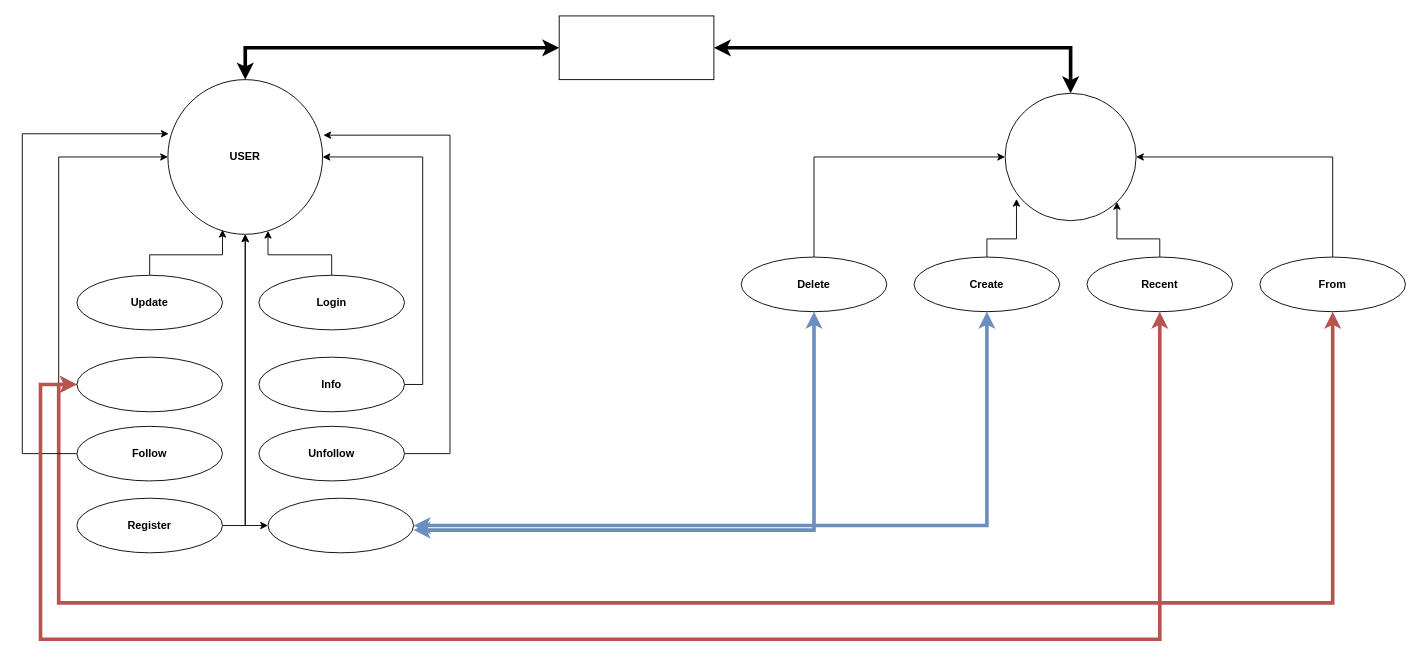
Image size: 1421x665. Some labels were removed from this diagram. Here are the shapes that lost their labels. From the top down, the centre of each, then its label:
the point at 636,47: API Gateway
the point at 1070,156: POSTS
the point at 149,384: MyFollowers
the point at 340,525: _verify
